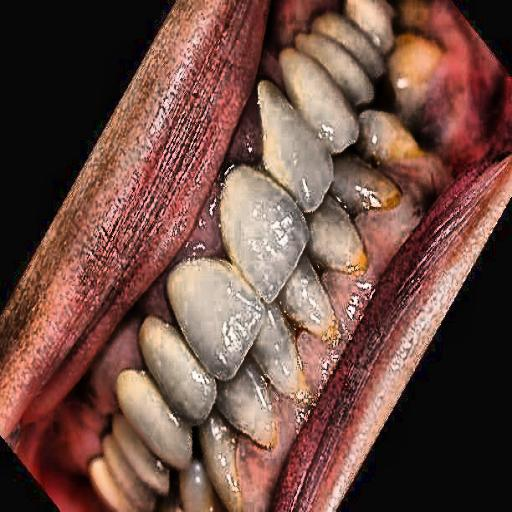Calculus: (319, 235, 375, 347), (397, 20, 447, 93), (356, 168, 408, 232), (278, 365, 321, 415)
